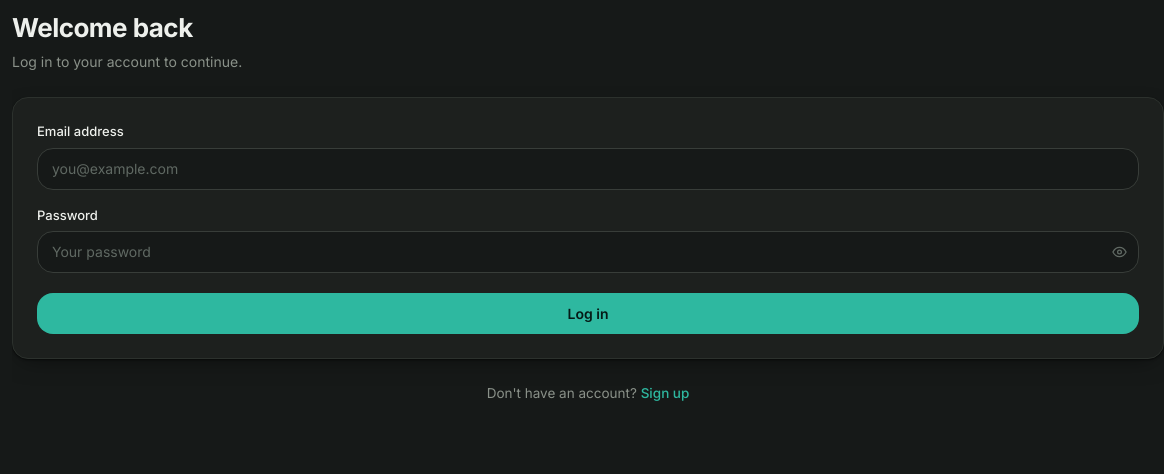
Test case: LoginForm › shows "Invalid email or password." on 401 with generic message
Type "user@example.com" into the field labelled "Email address". click: point(588, 169)
box: [37, 148, 1139, 190]
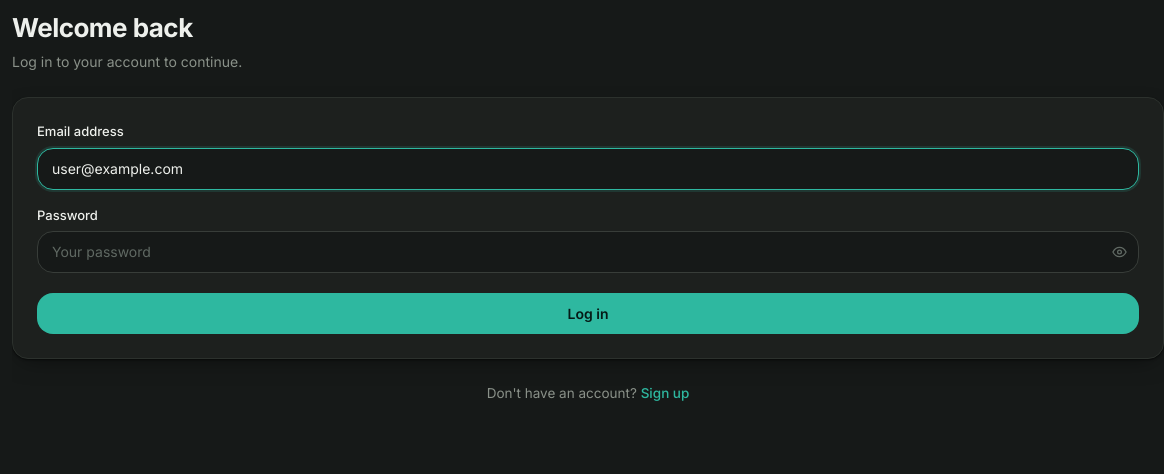
Type "WrongPass1!" into the password field labelled "Password". click: point(588, 252)
box: [37, 231, 1139, 273]
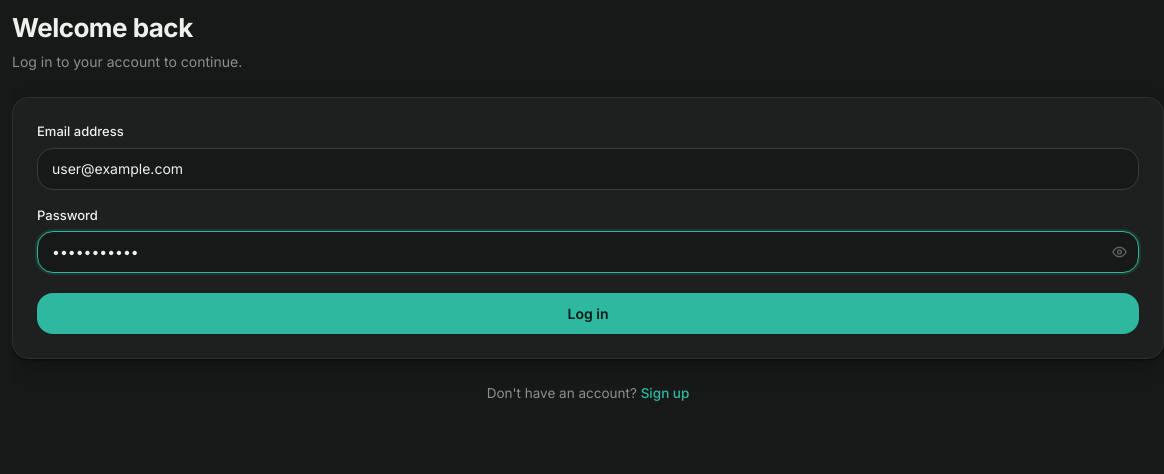
Click the button "Log in". click: point(588, 314)
box: [37, 293, 1139, 334]
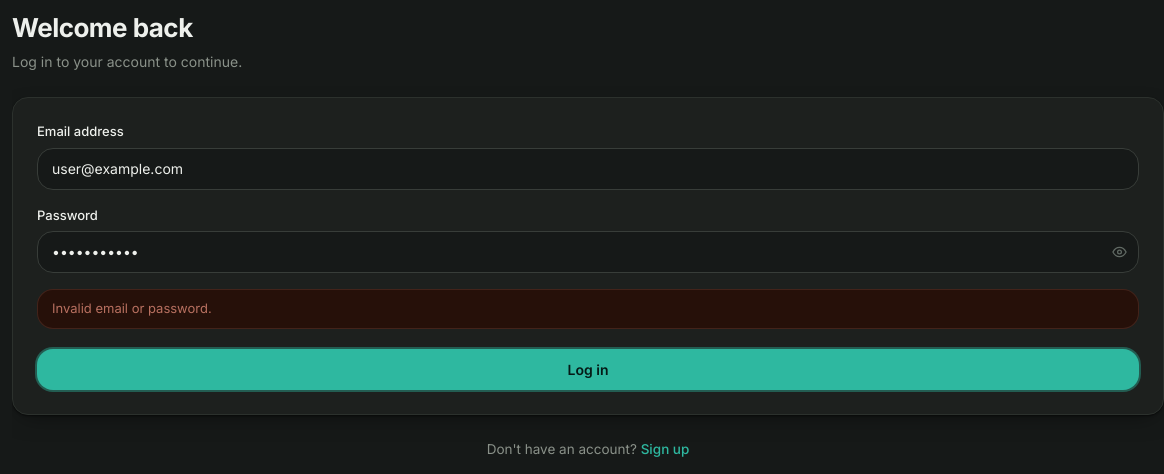
Now the text "Invalid email or password." is shown, box [52, 300, 212, 316]
